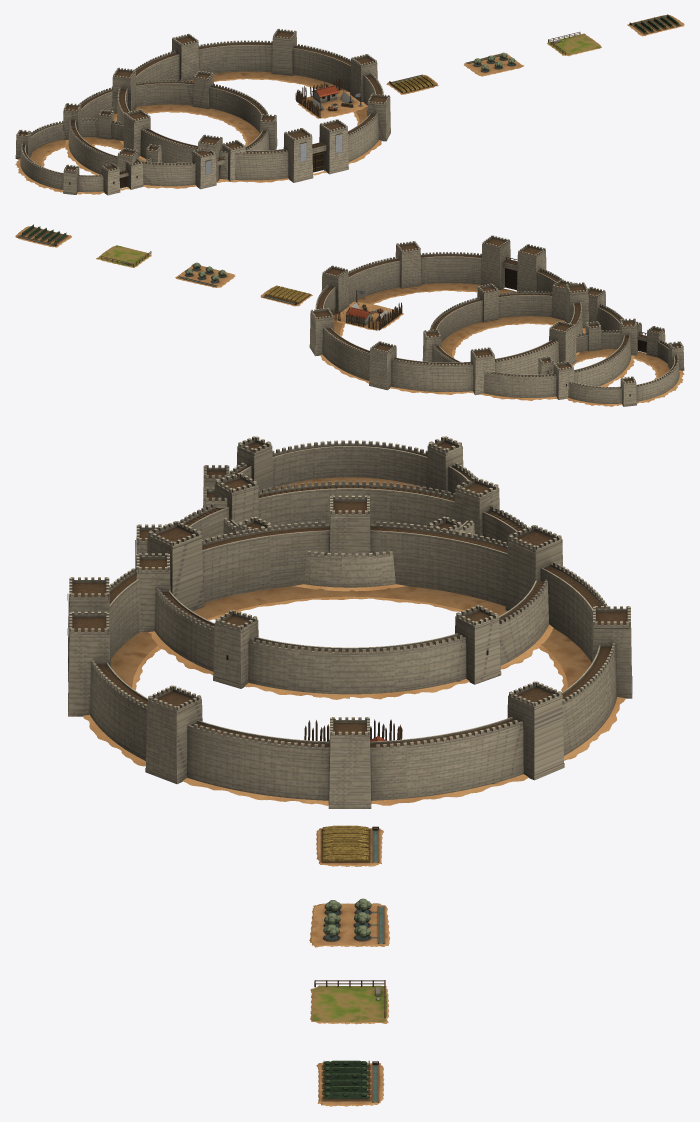
File: shared-classical.glb
3 views of the same model, one above another, from view 1: azimuth 30°, elevation 25°; view 2: azimuth 150°, elevation 25°; view 3: azimuth 270°, elevation 25° (orthographic). The views are drawn at different scales.
Visible parts, largest first — view 1: LOD0.002, LOD0.001, LOD0, LOD0.003, LOD0.005, LOD0.006, LOD0.007, LOD0.004; view 2: LOD0.002, LOD0.001, LOD0, LOD0.003, LOD0.005, LOD0.006, LOD0.007, LOD0.004; view 3: LOD0.002, LOD0.001, LOD0, LOD0.005, LOD0.006, LOD0.007, LOD0.004.
Part boxes in pixels (left/top/right/bottom): LOD0.002: left=112, top=28, right=390, bottom=182; LOD0.001: left=62, top=70, right=277, bottom=189; LOD0: left=15, top=109, right=161, bottom=195; LOD0.003: left=295, top=78, right=367, bottom=118; LOD0.005: left=464, top=52, right=524, bottom=76; LOD0.006: left=547, top=32, right=601, bottom=56; LOD0.007: left=627, top=14, right=684, bottom=36; LOD0.004: left=386, top=74, right=438, bottom=94; LOD0.002: left=309, top=235, right=588, bottom=395; LOD0.001: left=422, top=279, right=637, bottom=400; LOD0: left=538, top=321, right=684, bottom=406; LOD0.003: left=331, top=290, right=403, bottom=330; LOD0.005: left=175, top=262, right=235, bottom=287; LOD0.006: left=96, top=245, right=151, bottom=267; LOD0.007: left=15, top=224, right=71, bottom=247; LOD0.004: left=260, top=285, right=312, bottom=306; LOD0.002: left=67, top=495, right=632, bottom=808; LOD0.001: left=135, top=472, right=553, bottom=699; LOD0: left=203, top=436, right=475, bottom=591; LOD0.005: left=309, top=898, right=389, bottom=947; LOD0.006: left=310, top=980, right=388, bottom=1024; LOD0.007: left=316, top=1060, right=384, bottom=1106; LOD0.004: left=316, top=825, right=383, bottom=866.
Size of what is drawn, in the model's own units: 24.27 by 1.53 by 9.05.
3 materials, 3 textured.
